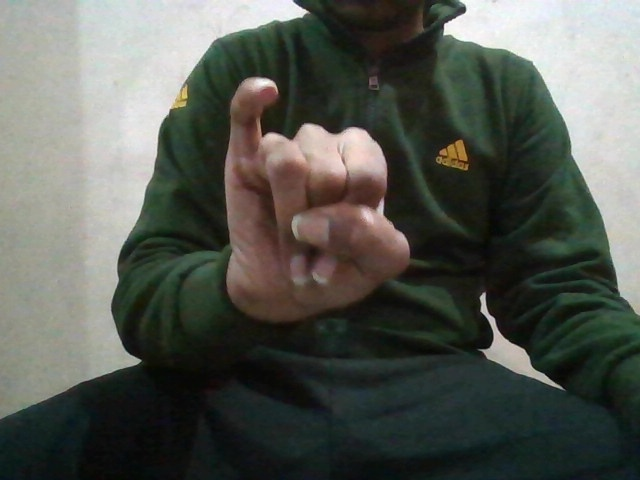J: (221, 70, 405, 323)
